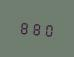eight: (18, 18, 29, 36), (31, 19, 42, 37)
zero: (43, 20, 54, 38)
